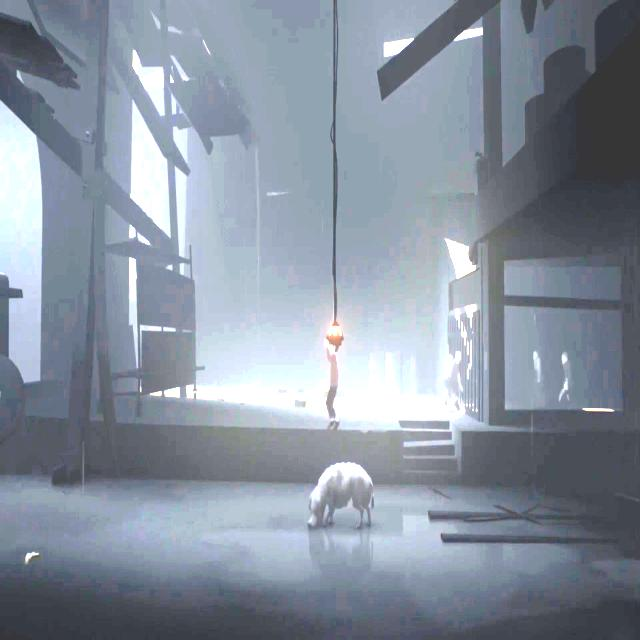zombie: (558, 351, 572, 405), (451, 351, 462, 414), (533, 350, 542, 402), (443, 356, 451, 406)
